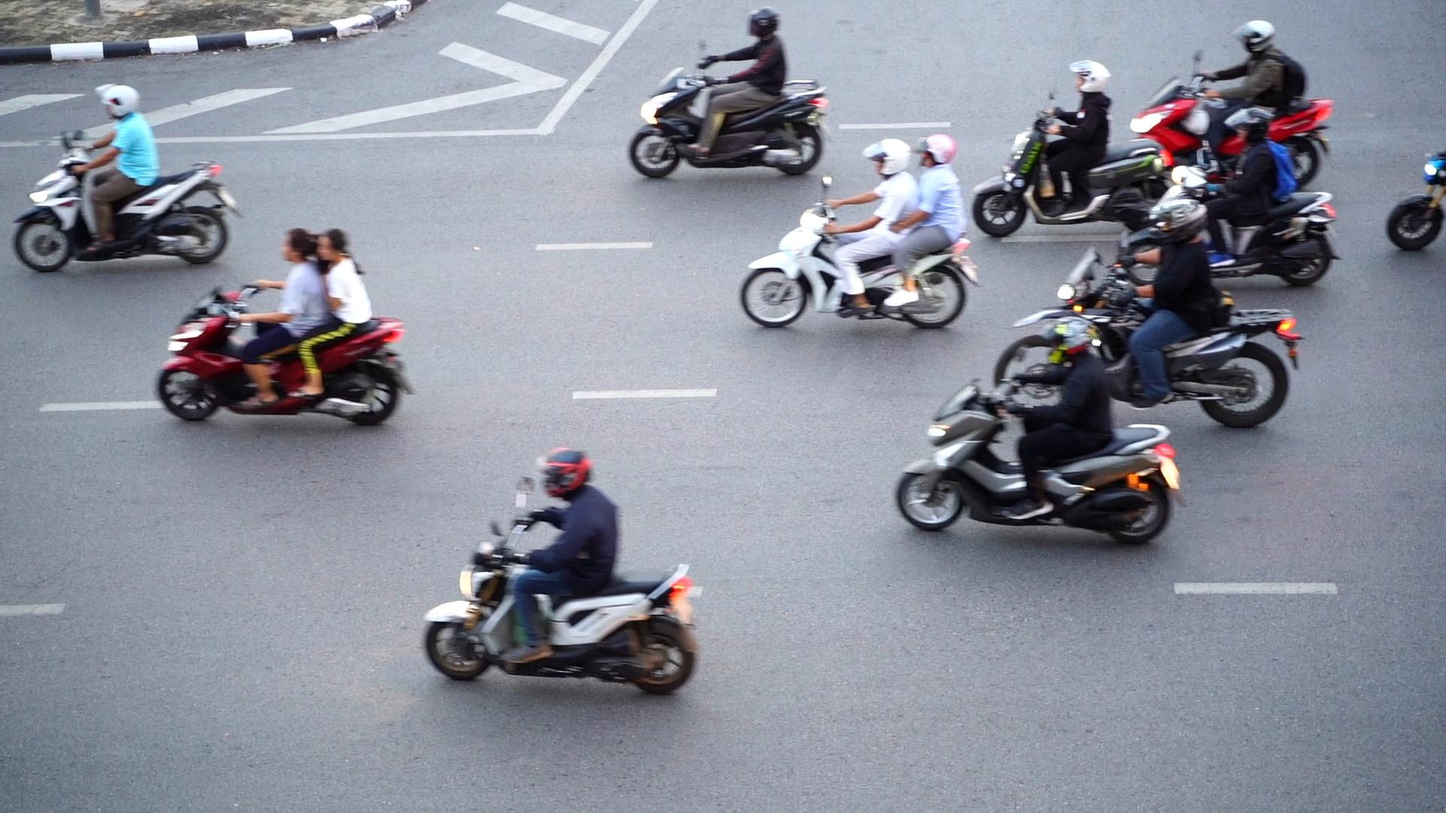driver: (993, 199, 1306, 430), (423, 445, 705, 696), (896, 315, 1185, 544), (156, 228, 415, 426), (740, 132, 983, 328), (13, 83, 244, 273), (971, 59, 1169, 238), (1130, 20, 1334, 189), (630, 6, 829, 177)
helmet: (1037, 316, 1104, 366), (535, 446, 592, 498), (1148, 198, 1208, 247), (1223, 107, 1276, 144), (861, 139, 911, 177), (94, 83, 140, 120), (1229, 20, 1277, 54), (912, 134, 958, 168), (1069, 60, 1111, 95), (747, 7, 780, 38)
no-helmet: (281, 228, 317, 261), (317, 229, 345, 261)
